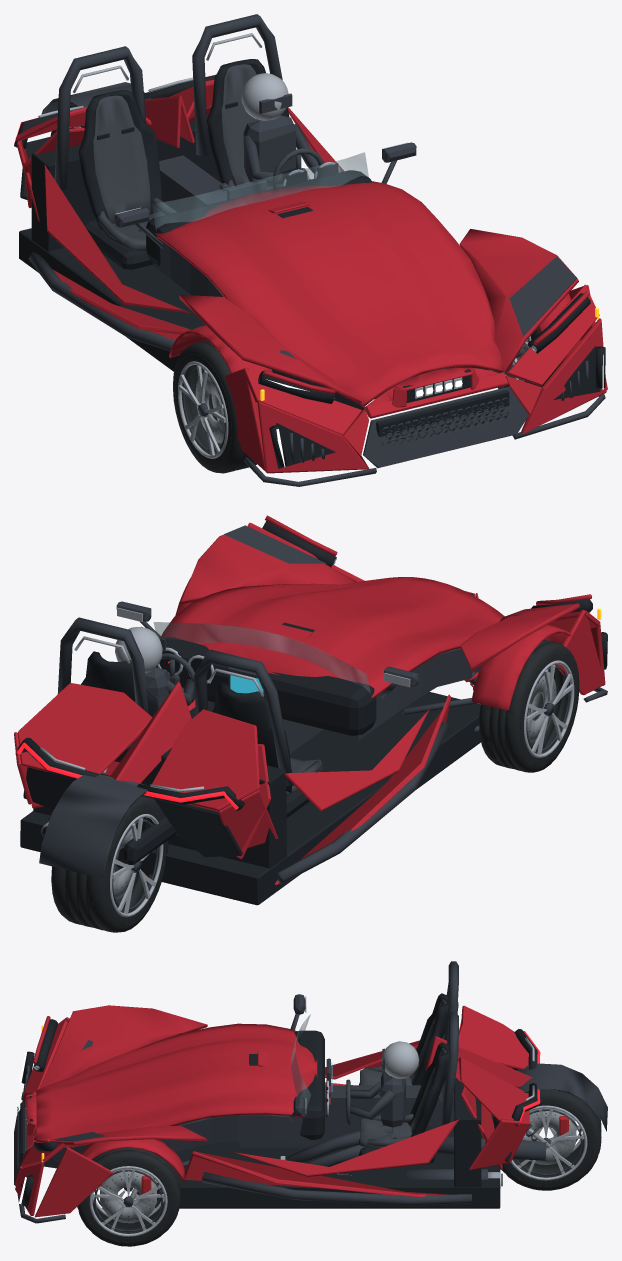
File: slingshot-r-lod.glb
The picture shows the model from 3 angles, top to bottom: view 1: azimuth 30°, elevation 25°; view 2: azimuth 150°, elevation 25°; view 3: azimuth 270°, elevation 25°; orthographic projection. The views are drawn at different scales.
Parts seen in each view (by area): view 1: Body_BodyPaint, Body_TexturedTrim, Body_Graphite, Body_Upholstery, Windscreen, Wheel_0_TireRubber, Rider_Graphite, Rim_0_-1_WheelFinish, Helmet, Body_MachinedAlloy, Wheel_0_BrakeSteel; view 2: Body_BodyPaint, Body_TexturedTrim, Body_Graphite, Wheel_0_TireRubber, Wheel_2_TireRubber, Windscreen, Rim_0_-1_WheelFinish, Rim_2_-1_WheelFinish, Body_MachinedAlloy, Helmet, Rider_Graphite, Wheel_0_BrakeSteel (+2 smaller); view 3: Body_BodyPaint, Body_TexturedTrim, Body_Graphite, Wheel_1_TireRubber, Rider_Graphite, Wheel_2_TireRubber, Body_Upholstery, Wheel_1_BrakeSteel, Rim_1_1_WheelFinish, Rim_2_1_WheelFinish, Wheel_2_BrakeSteel, Helmet (+4 smaller).
Part boxes in pixels (left/top/right/bottom): Body_BodyPaint: left=15, top=80, right=607, bottom=473; Body_TexturedTrim: left=14, top=59, right=605, bottom=468; Body_Graphite: left=28, top=14, right=605, bottom=486; Body_Upholstery: left=93, top=64, right=282, bottom=250; Windscreen: left=152, top=152, right=368, bottom=230; Wheel_0_TireRubber: left=173, top=340, right=256, bottom=473; Rider_Graphite: left=243, top=93, right=319, bottom=183; Rim_0_-1_WheelFinish: left=178, top=361, right=228, bottom=458; Helmet: left=241, top=73, right=288, bottom=120; Body_MachinedAlloy: left=38, top=33, right=536, bottom=398; Wheel_0_BrakeSteel: left=195, top=373, right=224, bottom=443; Body_BodyPaint: left=14, top=515, right=605, bottom=884; Body_TexturedTrim: left=15, top=520, right=607, bottom=905; Body_Graphite: left=39, top=525, right=607, bottom=884; Wheel_0_TireRubber: left=479, top=639, right=579, bottom=772; Wheel_2_TireRubber: left=51, top=796, right=168, bottom=932; Windscreen: left=153, top=622, right=370, bottom=693; Rim_0_-1_WheelFinish: left=524, top=660, right=574, bottom=757; Rim_2_-1_WheelFinish: left=110, top=814, right=163, bottom=917; Body_MachinedAlloy: left=40, top=558, right=410, bottom=792; Helmet: left=115, top=626, right=162, bottom=673; Rider_Graphite: left=145, top=638, right=194, bottom=708; Wheel_0_BrakeSteel: left=527, top=672, right=556, bottom=742; Body_BodyPaint: left=15, top=1005, right=532, bottom=1217; Body_TexturedTrim: left=20, top=993, right=537, bottom=1208; Body_Graphite: left=14, top=961, right=607, bottom=1223; Wheel_1_TireRubber: left=77, top=1148, right=180, bottom=1246; Rider_Graphite: left=287, top=1048, right=405, bottom=1166; Wheel_2_TireRubber: left=492, top=1089, right=601, bottom=1190; Body_Upholstery: left=359, top=999, right=446, bottom=1148; Wheel_1_BrakeSteel: left=100, top=1168, right=157, bottom=1223; Rim_1_1_WheelFinish: left=89, top=1166, right=167, bottom=1236; Rim_2_1_WheelFinish: left=511, top=1105, right=587, bottom=1180; Wheel_2_BrakeSteel: left=522, top=1108, right=576, bottom=1164; Helmet: left=382, top=1041, right=419, bottom=1078.
Bounding box in the file's own units: 2.01 × 1.32 × 3.79.
